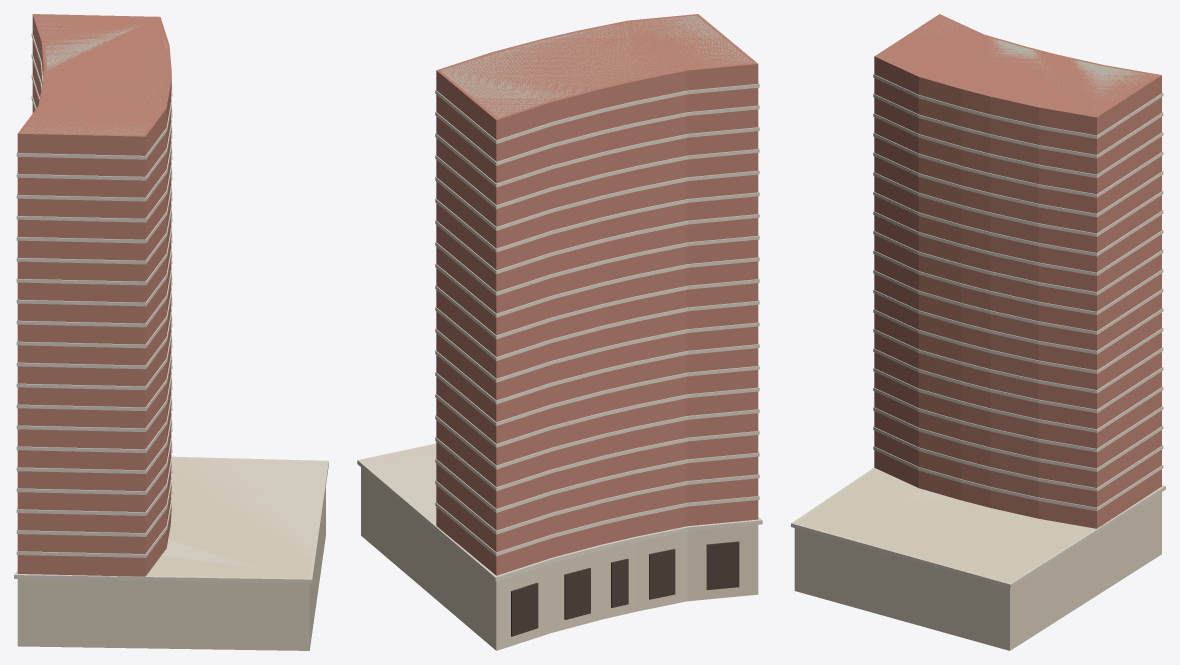
The model's file is the-lin.glb.
3 views of the same model, side by side, from view 1: azimuth 30°, elevation 25°; view 2: azimuth 150°, elevation 25°; view 3: azimuth 270°, elevation 25° (orthographic). The views are drawn at different scales.
Visible parts, largest first — view 1: the-lin; view 2: the-lin; view 3: the-lin.
Boxes of the visible parts, x1,y1,x2,y2 form: the-lin: [14, 14, 328, 650]; the-lin: [357, 14, 762, 650]; the-lin: [791, 14, 1165, 650].
Bounding box in the file's own units: 76.41 × 106 × 75.14.
